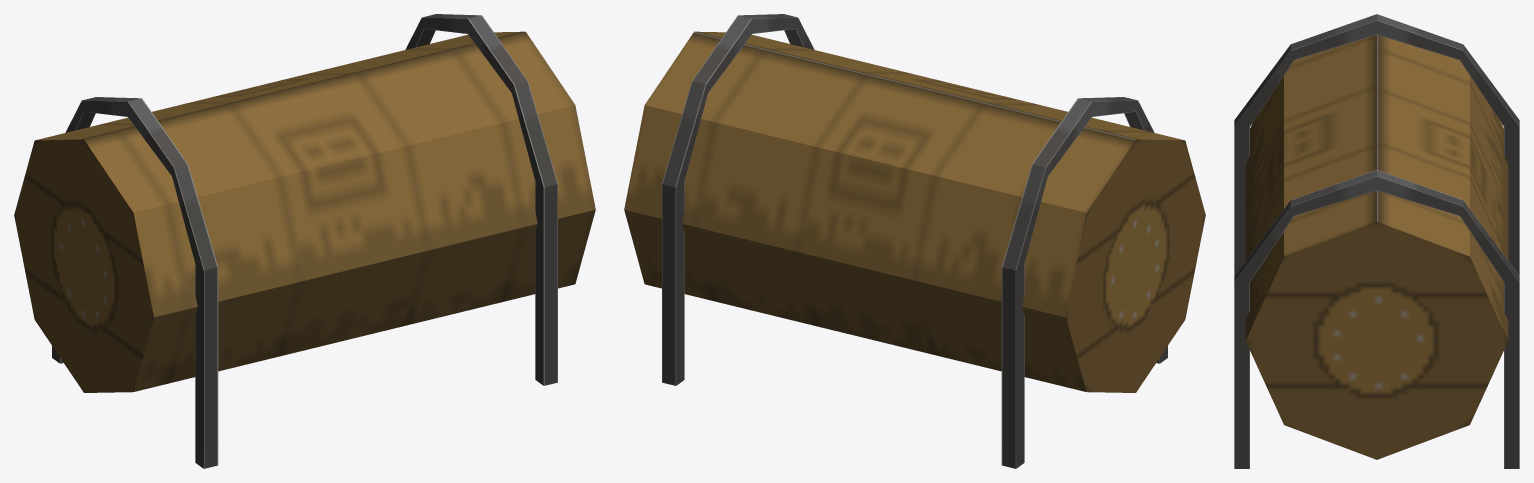
Rendered from Fuel.fbx.
The picture shows the model from 3 angles, left to right: view 1: azimuth 30°, elevation 25°; view 2: azimuth 150°, elevation 25°; view 3: azimuth 270°, elevation 25°; orthographic projection. The views are drawn at different scales.
Visible parts, largest first — view 1: Fuel; view 2: Fuel; view 3: Fuel.
Part boxes in pixels (left/top/right/bottom): Fuel: left=14, top=14, right=595, bottom=468; Fuel: left=624, top=14, right=1205, bottom=468; Fuel: left=1234, top=14, right=1519, bottom=468.
Size of the model in its own units: 3.65 by 2.46 by 2.17.
